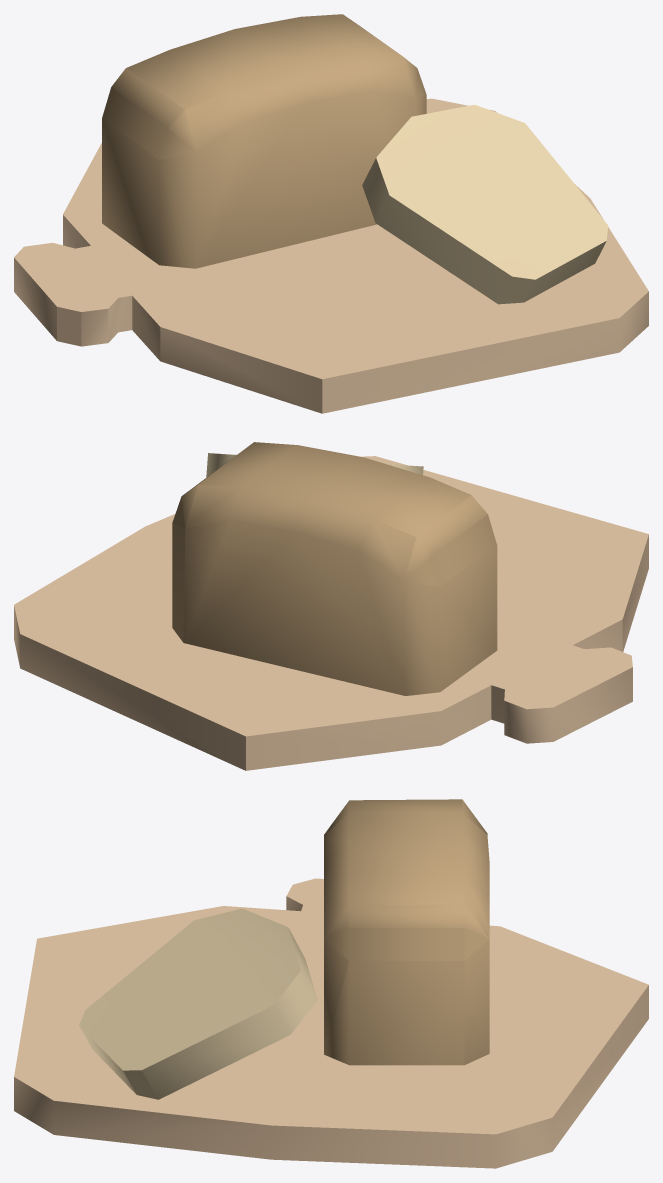
The model's file is kitchenware_board.glb.
3 views of the same model, one above another, from view 1: azimuth 30°, elevation 25°; view 2: azimuth 150°, elevation 25°; view 3: azimuth 270°, elevation 25° (orthographic).
Bounding box in the file's own units: 0.58 × 0.2047 × 0.6081.
